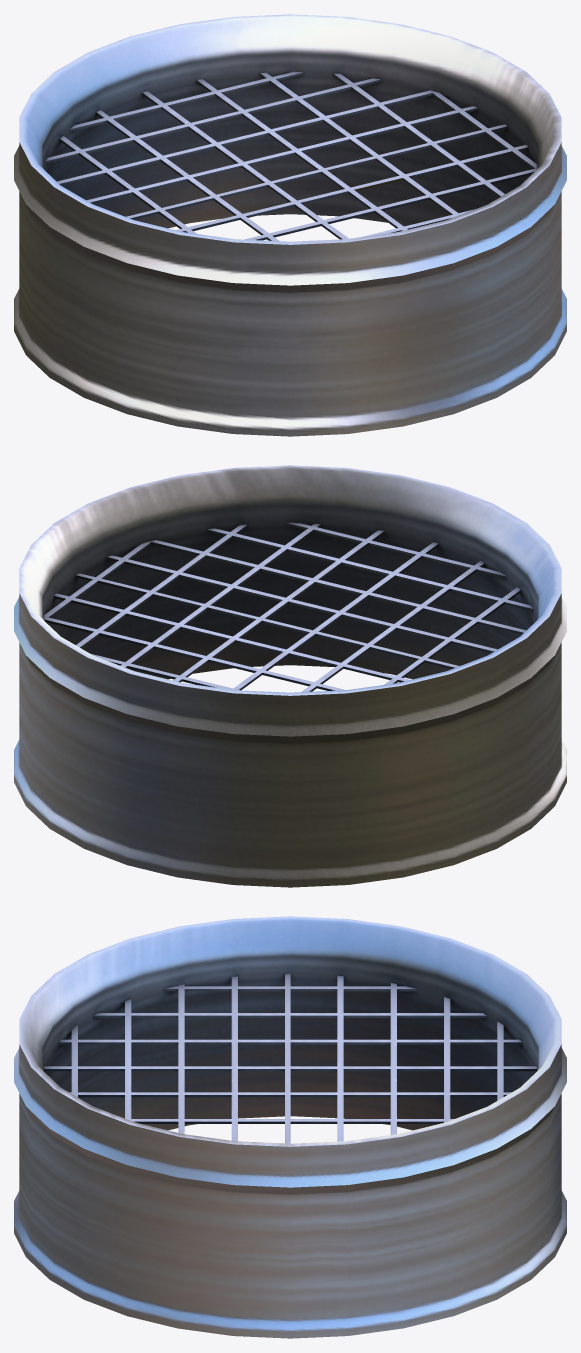
File: sieve_rough.glb
The picture shows the model from 3 angles, top to bottom: view 1: azimuth 30°, elevation 25°; view 2: azimuth 150°, elevation 25°; view 3: azimuth 270°, elevation 25°; orthographic projection.
Parts seen in each view (by area): view 1: sieve_rough; view 2: sieve_rough; view 3: sieve_rough.
Part boxes in pixels (box(x1,y1,x2,y2)): sieve_rough: box(14, 14, 566, 436); sieve_rough: box(14, 465, 566, 887); sieve_rough: box(14, 916, 566, 1338).
Bounding box in the file's own units: 0.1197 × 0.045 × 0.1191.
Materials: 1 (1 with a texture image).
